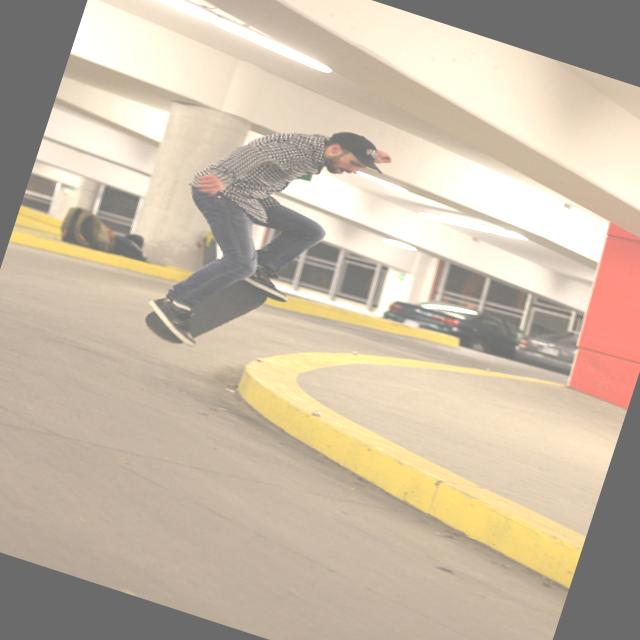Vehicle: (380, 283, 534, 369), (513, 315, 583, 375)
